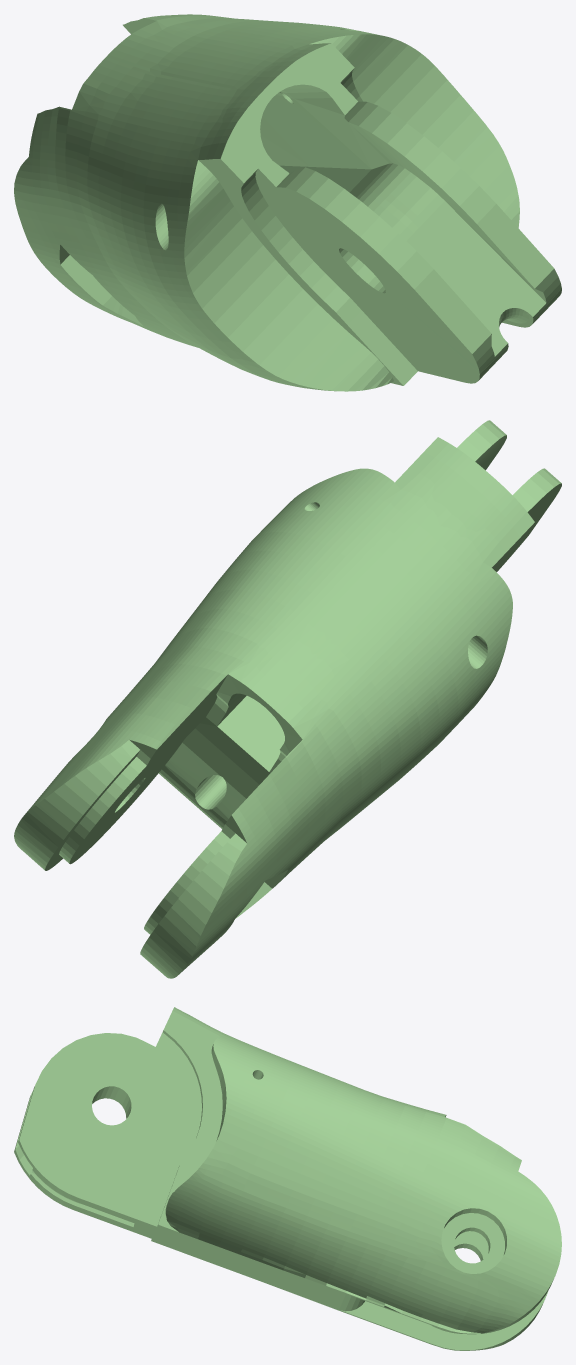
Rendered from i02_rightHand_pinkyPhal_visual.obj.
3 renders of one model, top to bottom at view 1: azimuth 30°, elevation 25°; view 2: azimuth 150°, elevation 25°; view 3: azimuth 270°, elevation 25°, orthographic. The views are drawn at different scales.
Parts seen in each view (by area): view 1: i02_rightHand_pinkyPhal_visual.001; view 2: i02_rightHand_pinkyPhal_visual.001; view 3: i02_rightHand_pinkyPhal_visual.001.
Boxes of the visible parts, left/top/right/bottom form: i02_rightHand_pinkyPhal_visual.001: left=14, top=14, right=561, bottom=391; i02_rightHand_pinkyPhal_visual.001: left=14, top=420, right=561, bottom=978; i02_rightHand_pinkyPhal_visual.001: left=14, top=1007, right=561, bottom=1350.
Size of the model in its own units: 0.2348 by 0.3094 by 0.4963.
